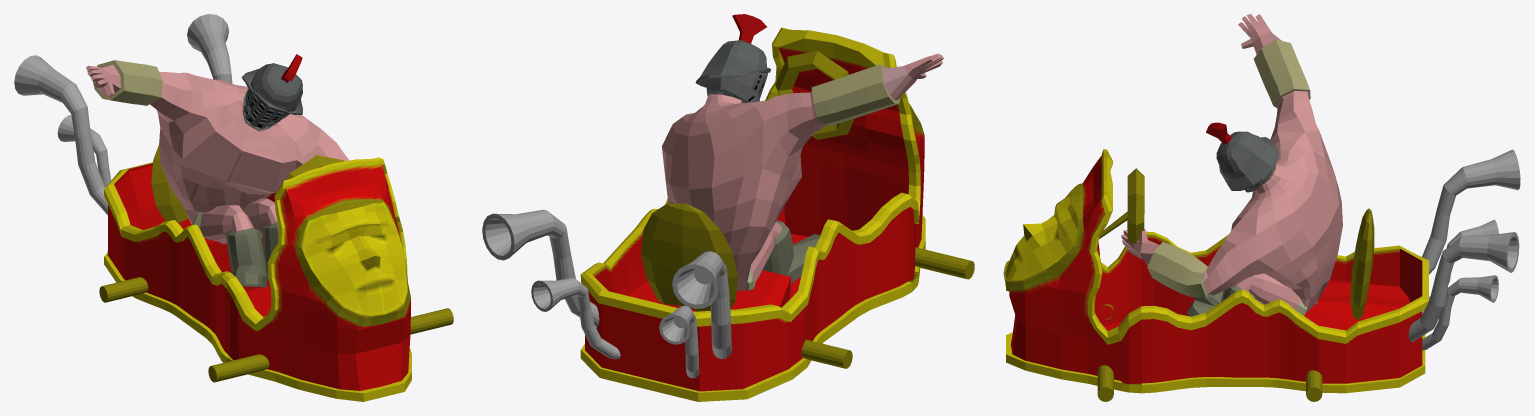
The model's file is gladiVacile_000546.obj.
3 renders of one model, left to right at view 1: azimuth 30°, elevation 25°; view 2: azimuth 150°, elevation 25°; view 3: azimuth 270°, elevation 25°, orthographic. The views are drawn at different scales.
Visible parts, largest first — view 1: GladiChasis_GladiChasisH, Gadiador_Gladiador_H.001, GladiTubos_GladiTubosH, GladiVolante_GladiVolanteH; view 2: GladiChasis_GladiChasisH, Gadiador_Gladiador_H.001, GladiTubos_GladiTubosH, GladiVolante_GladiVolanteH; view 3: GladiChasis_GladiChasisH, Gadiador_Gladiador_H.001, GladiTubos_GladiTubosH, GladiVolante_GladiVolanteH.
Part boxes in pixels (x1,y1,x2,y2): GladiChasis_GladiChasisH: (104,157,411,401); Gadiador_Gladiador_H.001: (86,54,349,287); GladiTubos_GladiTubosH: (14,14,232,215); GladiVolante_GladiVolanteH: (99,145,453,382); GladiChasis_GladiChasisH: (580,27,925,401); Gadiador_Gladiador_H.001: (661,14,943,290); GladiTubos_GladiTubosH: (482,209,731,378); GladiVolante_GladiVolanteH: (641,51,974,368); GladiChasis_GladiChasisH: (1003,149,1428,393); Gadiador_Gladiador_H.001: (1121,14,1342,316); GladiTubos_GladiTubosH: (1408,149,1520,350); GladiVolante_GladiVolanteH: (1097,168,1374,401).
Bounding box in the file's own units: 6.59 × 6.04 × 10.78.
